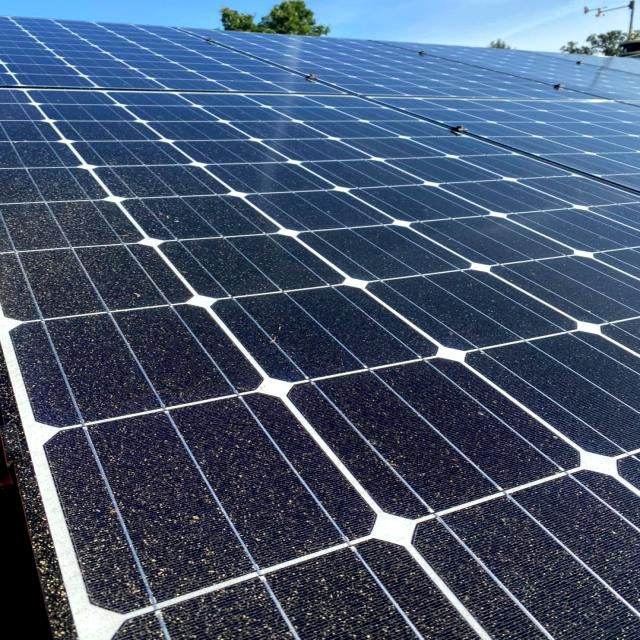dust: (98, 420, 246, 594), (468, 501, 640, 640), (280, 548, 434, 640), (34, 314, 182, 409), (0, 200, 115, 310)
